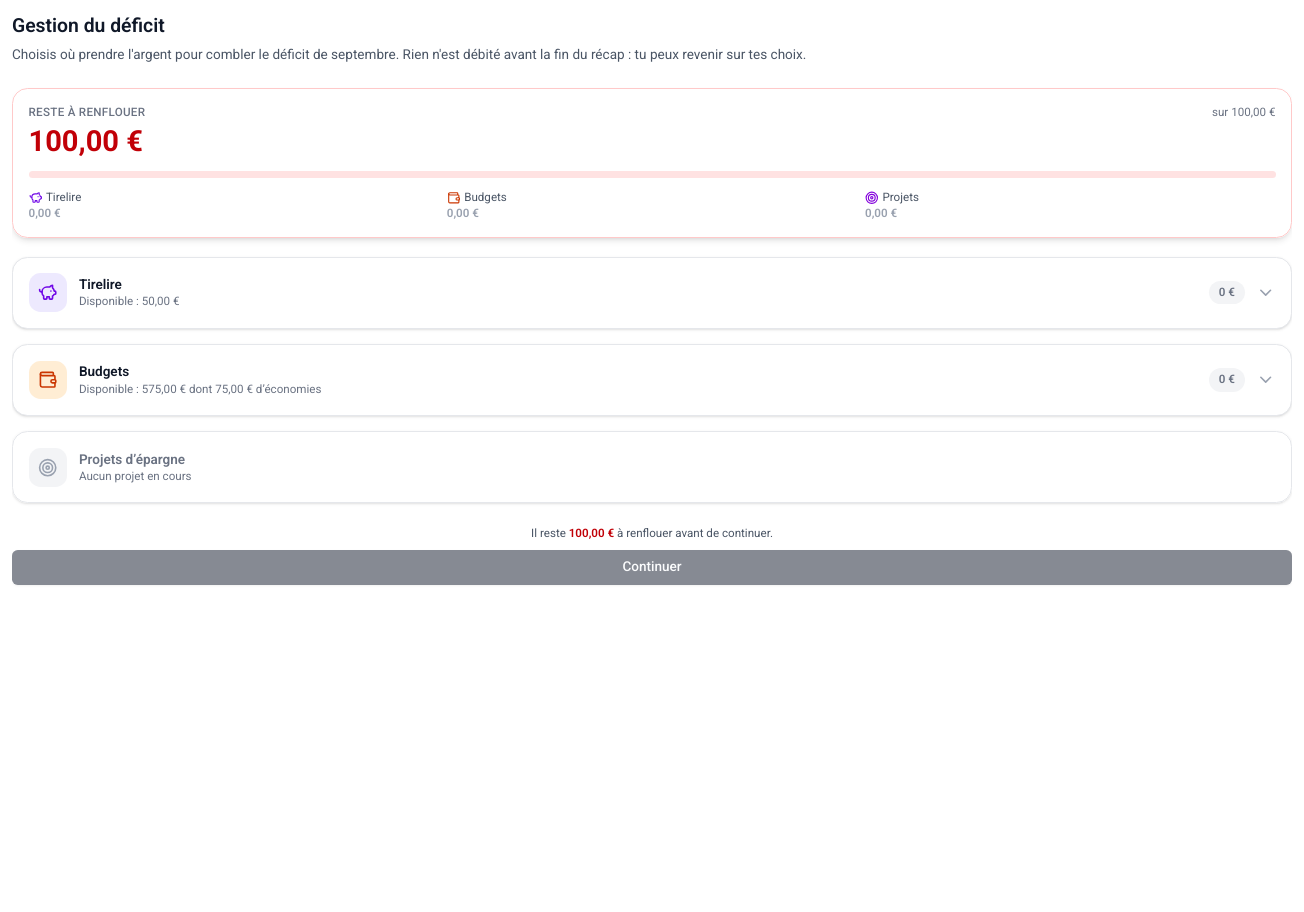
Test: BilanNegativeStep — tirelire › affiche le message d’erreur métier quand l’enregistrement échoue
Click the button "Tirelire Disponible : 50,00 € 0 €" at [48, 293], box [13,258,1291,328]
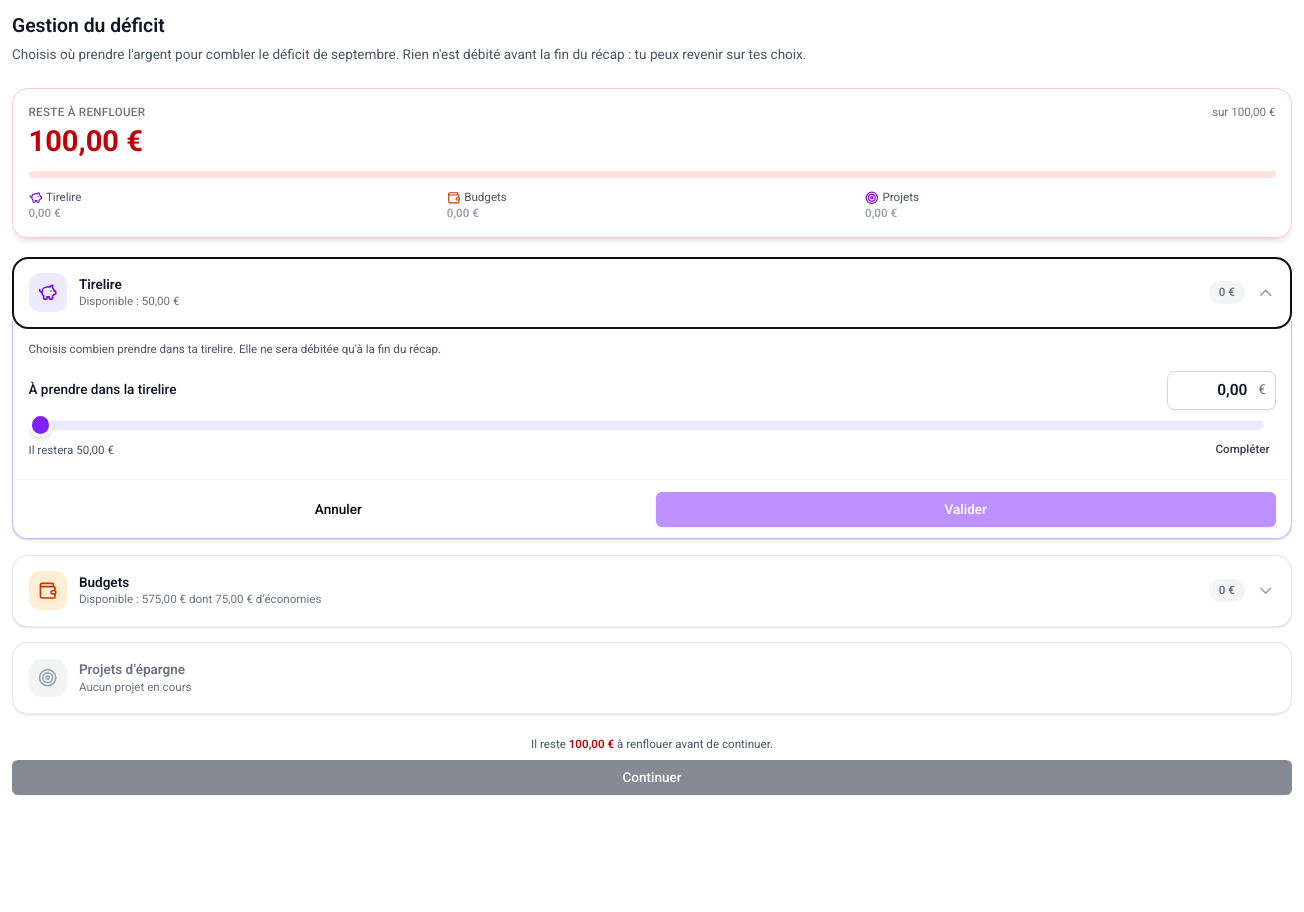
Set the slider named "Curseur Tirelire" to "10" at [283, 425], box [28,410,1276,440]
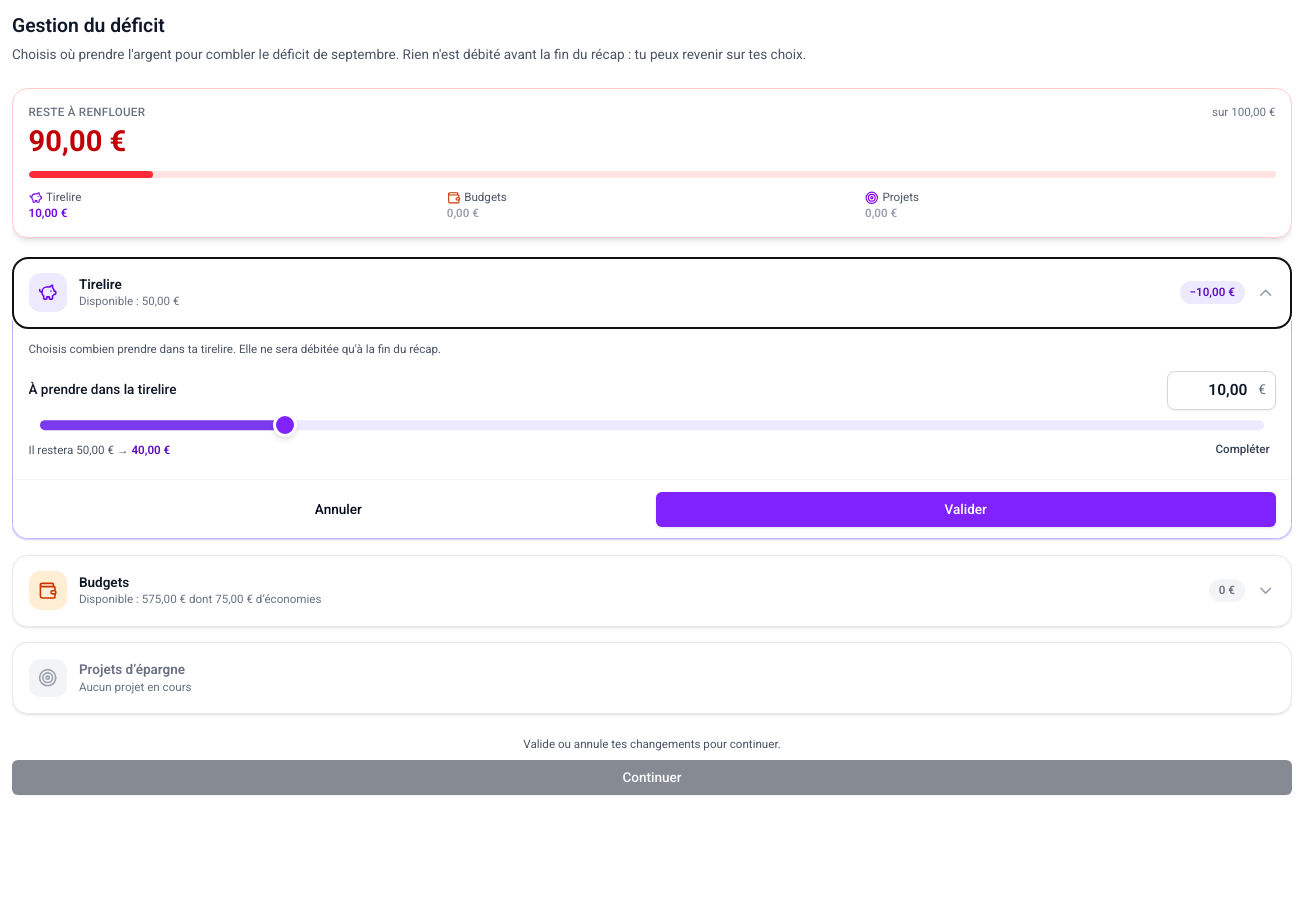
Click the button "Valider" at [966, 509], box [656,492,1276,527]
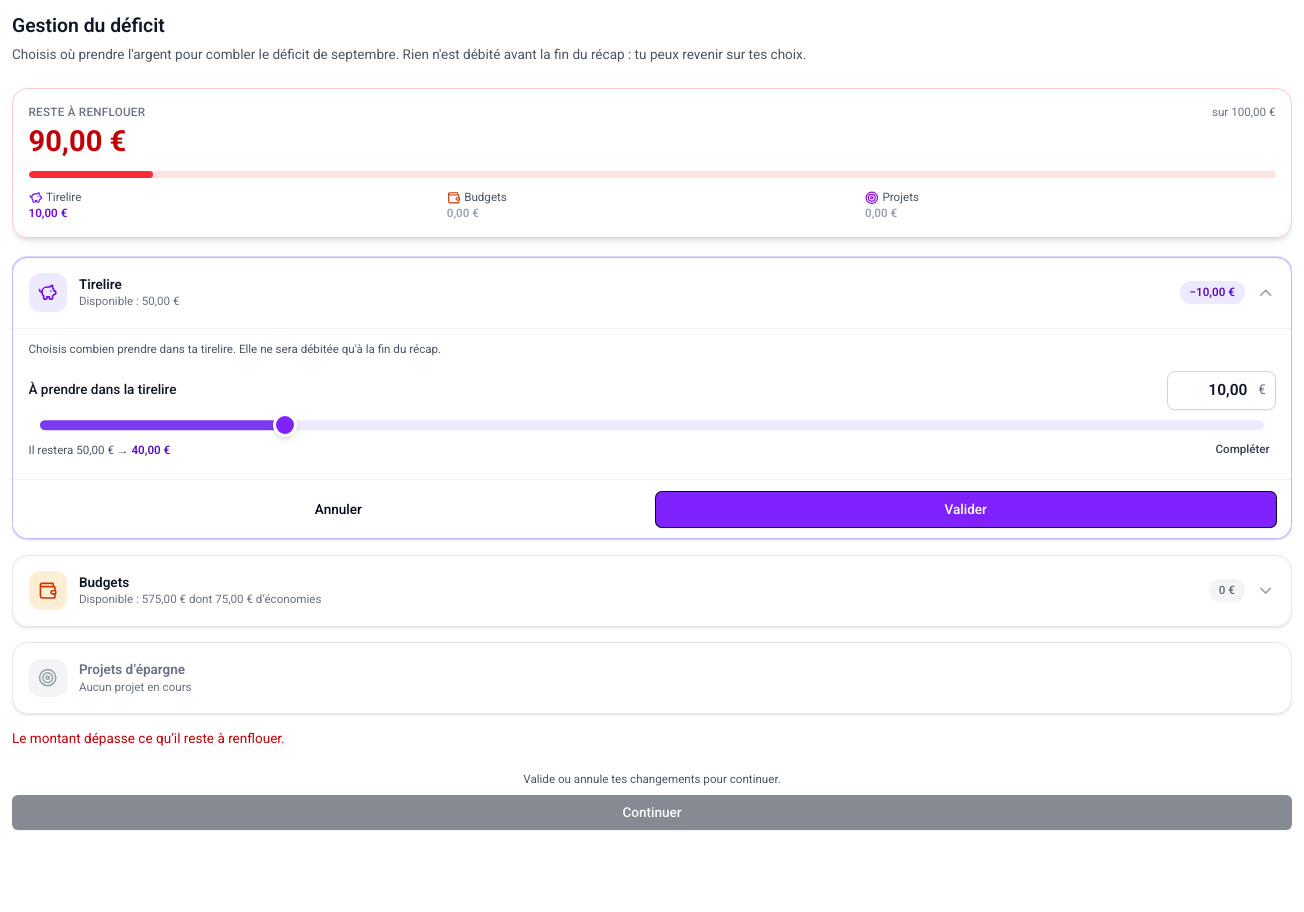
Result: the message shows "dépasse ce qu’il reste à renflouer" at [12,730,285,746]
